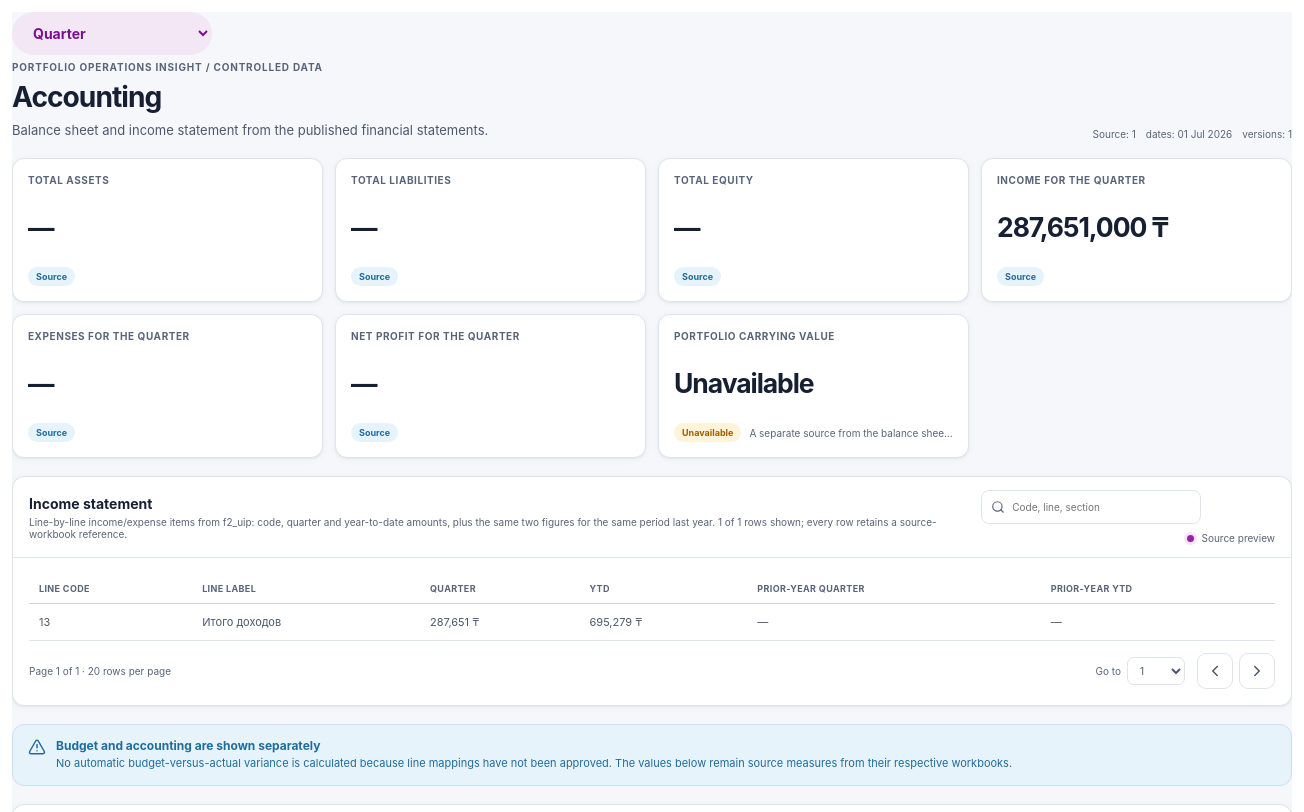
Test case: multi-source domain pages › switches the income-statement KPI cards between quarter and YTD via the period dropdown
Expected: the text "287,651,000 ₸" is shown, [997, 211, 1168, 243]
Step 1. Select "Year to date (YTD)" in the dropdown named "Income statement" → [112, 34], box [12, 12, 212, 55]
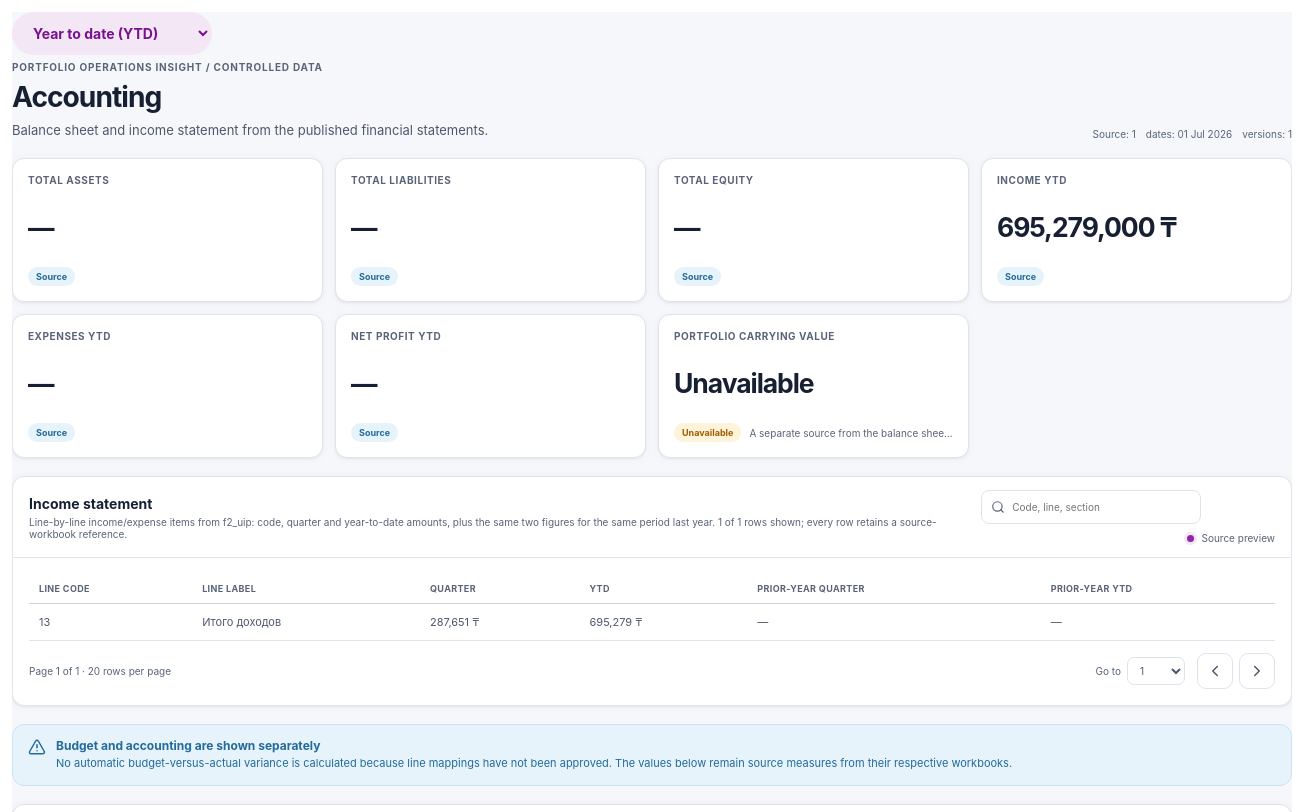
Now the text "695,279,000 ₸" is shown, box [997, 211, 1176, 243]
